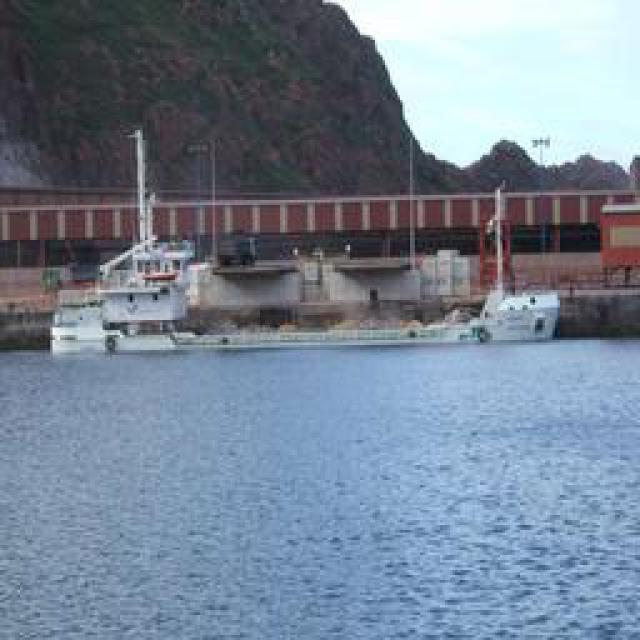Ship: (80, 274, 560, 357)
